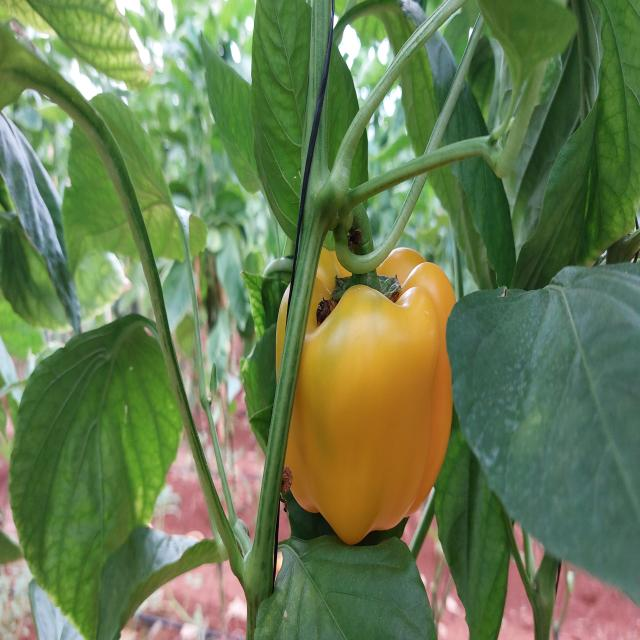Yellow-Ready-to-Harvest: (275, 247, 462, 547)
